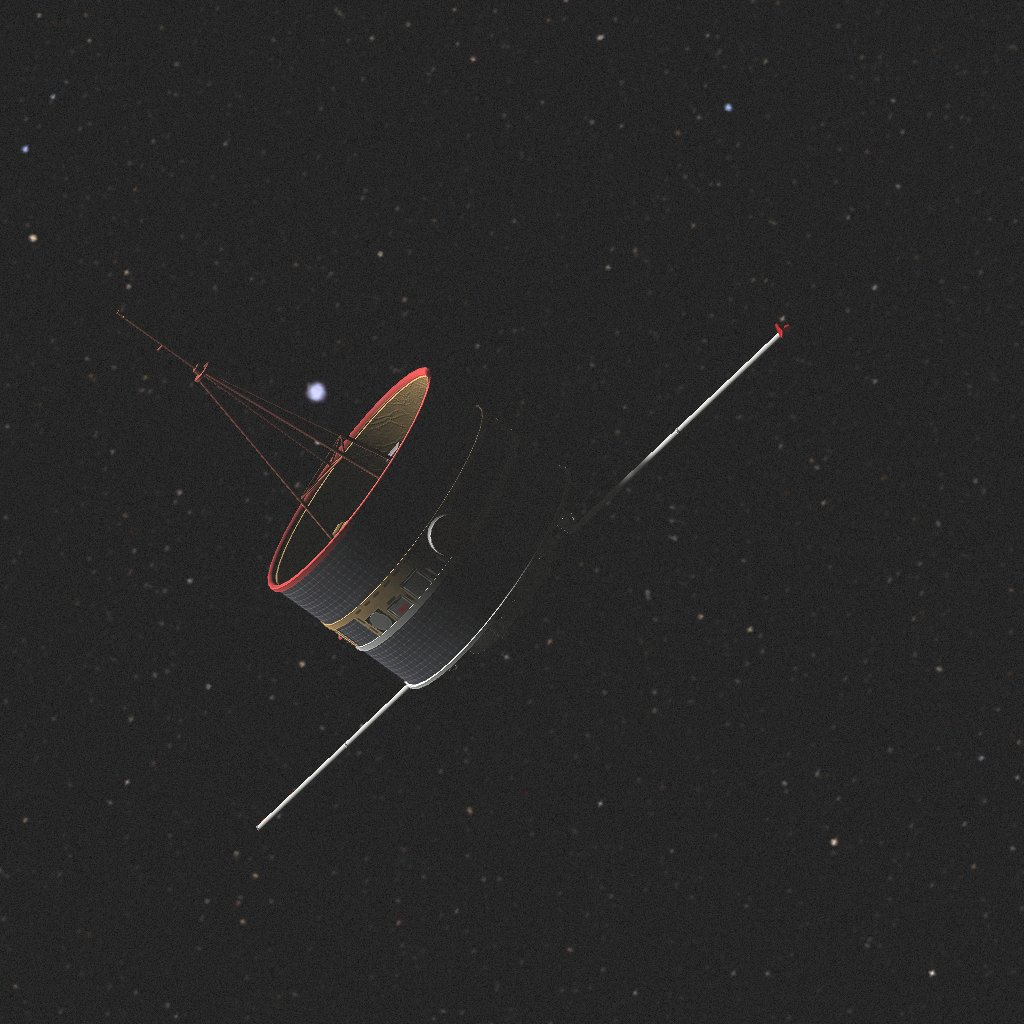double_star: (117, 310, 794, 831)
